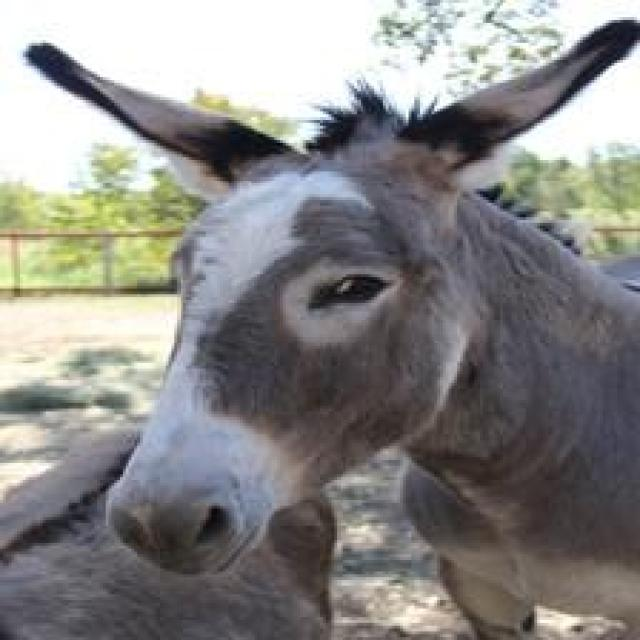Donkey: (20, 14, 637, 637), (0, 423, 340, 637)
